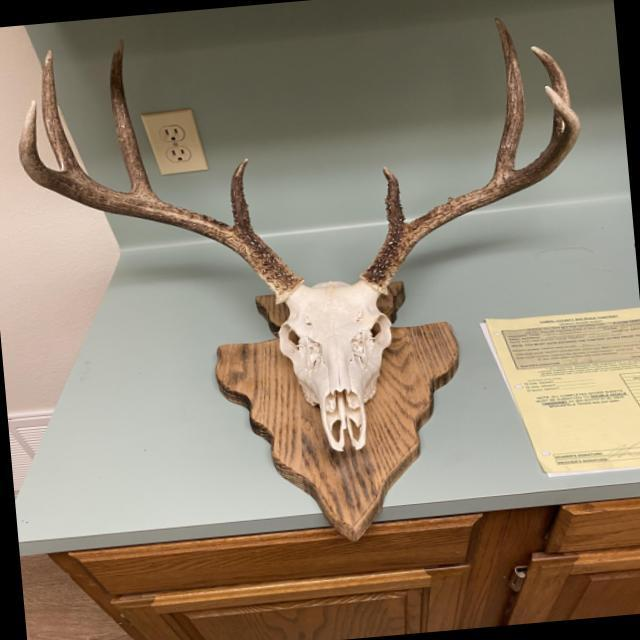L-F: (366, 84, 579, 288)
L-G1: (381, 165, 405, 230)
L-G2: (493, 17, 526, 176)
R-F: (18, 99, 302, 293)
R-G1: (230, 157, 252, 231)
R-G2: (109, 38, 154, 193)
R-G3: (40, 48, 82, 170)
